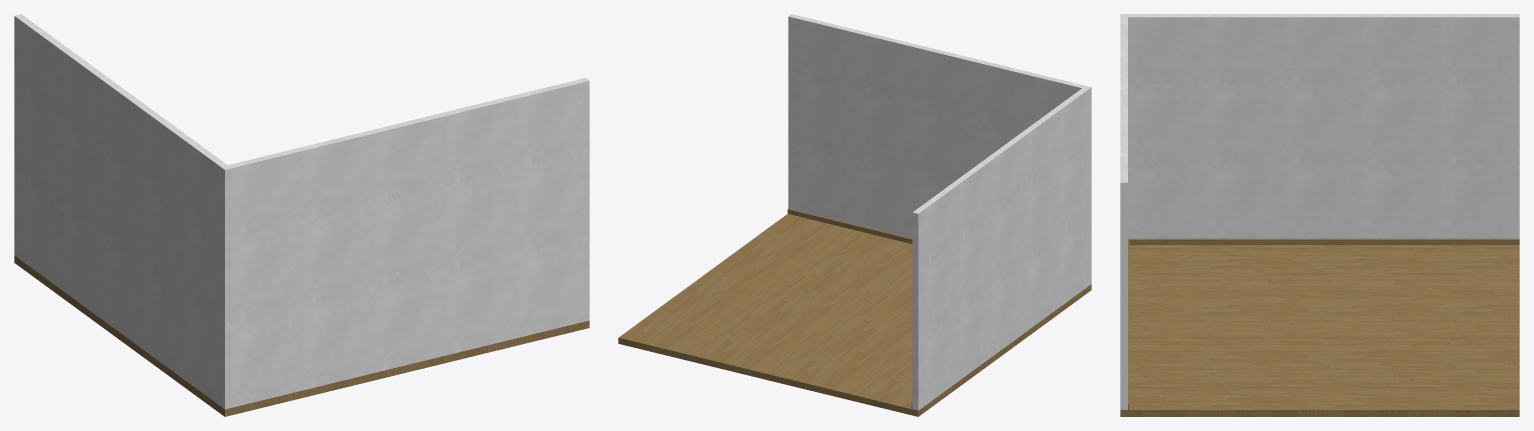
The model's file is BACKGROUND.glb.
3 views of the same model, side by side, from view 1: azimuth 30°, elevation 25°; view 2: azimuth 150°, elevation 25°; view 3: azimuth 270°, elevation 25° (orthographic). The views are drawn at different scales.
Parts seen in each view (by area): view 1: WALL, FLOOR; view 2: WALL, FLOOR, SKIRTING TILE; view 3: WALL, FLOOR, SKIRTING TILE.
Boxes of the visible parts, x1,y1,x2,y2 form: WALL: (14, 14, 589, 409); FLOOR: (14, 255, 589, 416); WALL: (788, 14, 1091, 410); FLOOR: (618, 214, 1091, 416); SKIRTING TILE: (787, 208, 912, 408); WALL: (1120, 14, 1519, 409); FLOOR: (1120, 245, 1519, 416); SKIRTING TILE: (1128, 238, 1519, 409).
Size of the model in its own units: 5.1 by 3.3 by 5.1.
3 materials, 3 textured.
